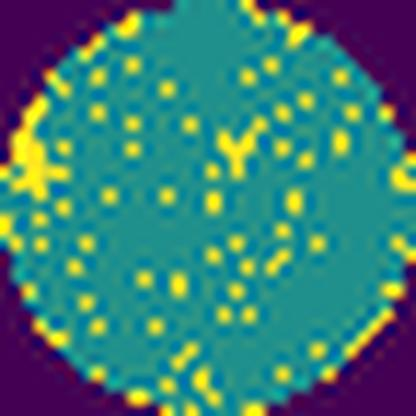Edge-Loc: (0, 96, 68, 203)
